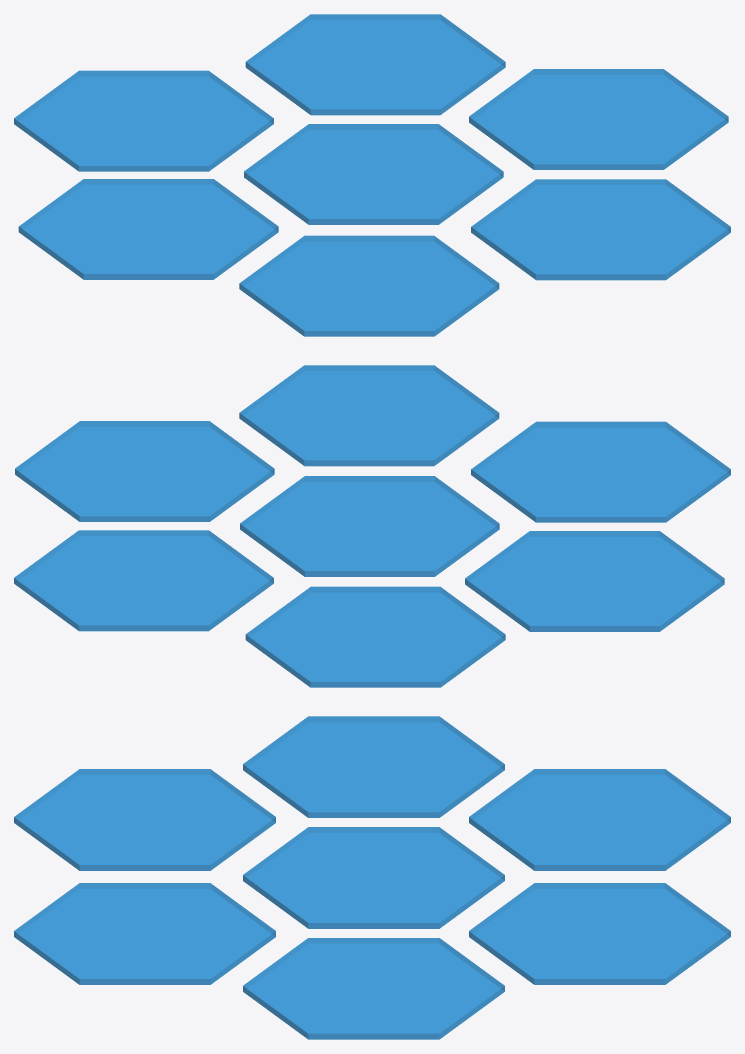
The model's file is shield.fbx.
3 views of the same model, one above another, from view 1: azimuth 30°, elevation 25°; view 2: azimuth 150°, elevation 25°; view 3: azimuth 270°, elevation 25° (orthographic).
Parts seen in each view (by area): view 1: Cylinder.005; view 2: Cylinder.005; view 3: Cylinder.005.
Boxes of the visible parts, <box> form: Cylinder.005: <box>14,14,730,336</box>; Cylinder.005: <box>14,365,730,687</box>; Cylinder.005: <box>14,716,730,1039</box>.
Bounding box in the file's own units: 573 × 5 × 547.
7 materials, 7 textured.
